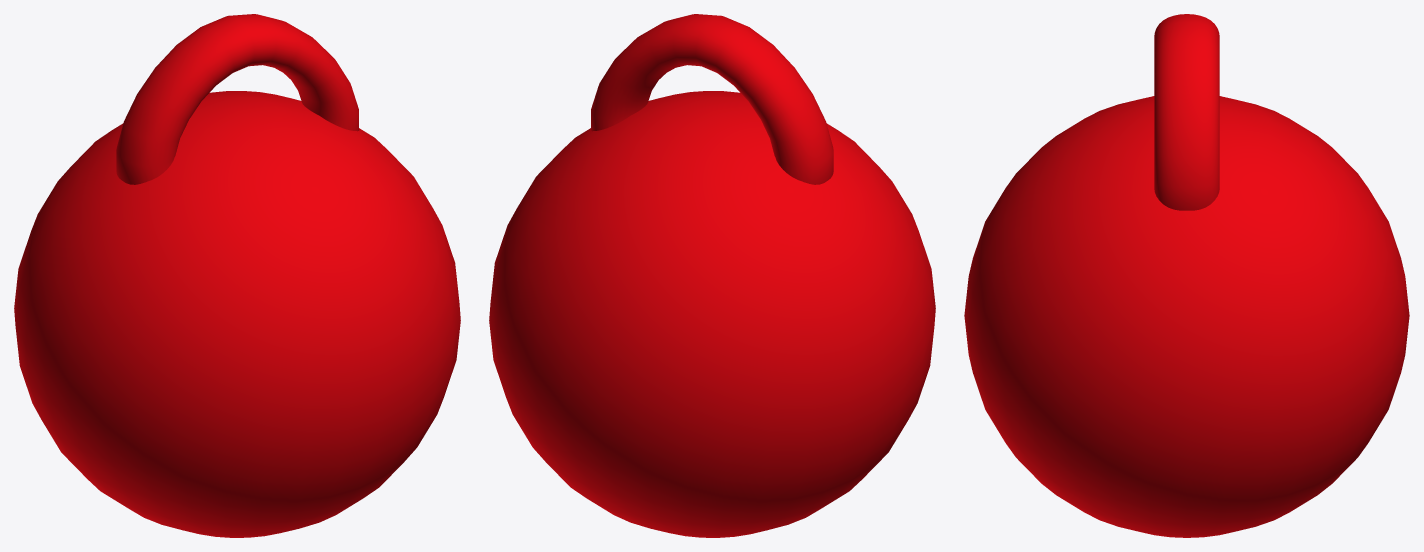
The model's file is Weight.fbx.
The picture shows the model from 3 angles, left to right: view 1: azimuth 30°, elevation 25°; view 2: azimuth 150°, elevation 25°; view 3: azimuth 270°, elevation 25°; orthographic projection.
Visible parts, largest first — view 1: Sphere; view 2: Sphere; view 3: Sphere.
Part boxes in pixels (<box>): Sphere: <box>14,14,460,537</box>; Sphere: <box>489,14,935,537</box>; Sphere: <box>964,14,1409,537</box>.
Size of the model in its own units: 0.4278 by 0.5249 by 0.4278.
